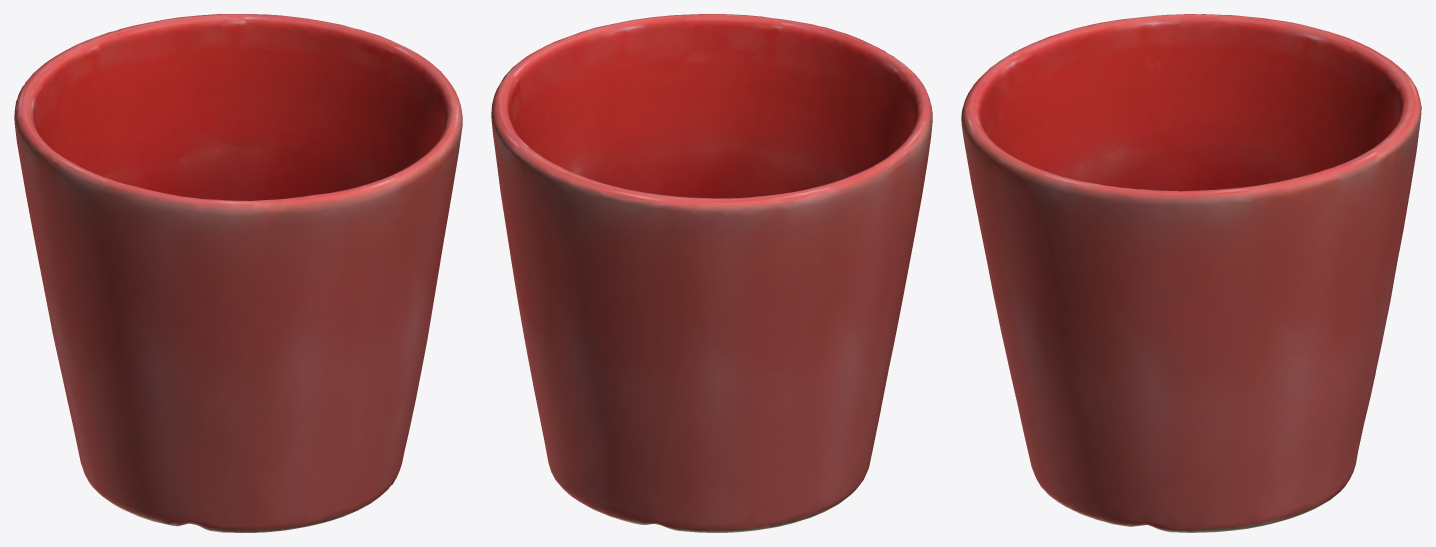
File: Sapota_Threshold_4_Ceramic_Round_Planter_Red.glb
3 views of the same model, side by side, from view 1: azimuth 30°, elevation 25°; view 2: azimuth 150°, elevation 25°; view 3: azimuth 270°, elevation 25° (orthographic).
Parts seen in each view (by area): view 1: Sapota_Threshold_4_Ceramic_Round_Planter_Red; view 2: Sapota_Threshold_4_Ceramic_Round_Planter_Red; view 3: Sapota_Threshold_4_Ceramic_Round_Planter_Red.
Boxes of the visible parts, box(x1,y1,x2,y2) form: Sapota_Threshold_4_Ceramic_Round_Planter_Red: box(14, 14, 462, 532); Sapota_Threshold_4_Ceramic_Round_Planter_Red: box(491, 14, 932, 532); Sapota_Threshold_4_Ceramic_Round_Planter_Red: box(961, 14, 1421, 532).
Bounding box in the file's own units: 0.106 × 0.0971 × 0.1096.
1 material, 1 textured.
